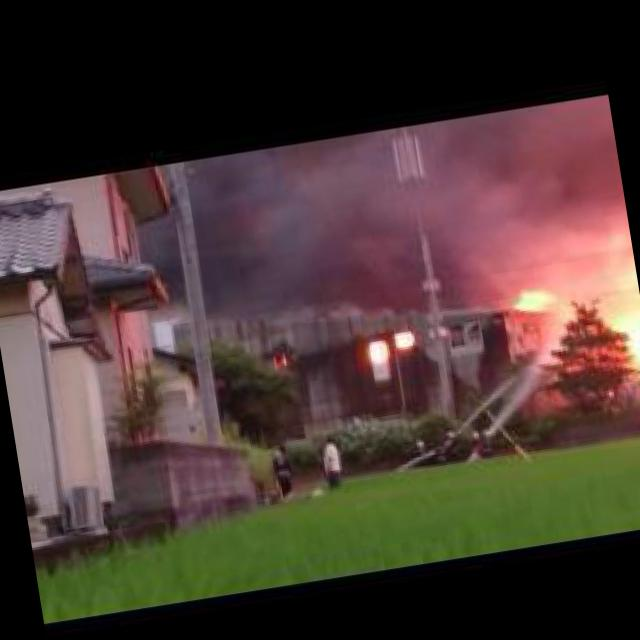fire: (577, 228, 640, 446), (506, 288, 552, 316)
smoke: (194, 106, 560, 334)
